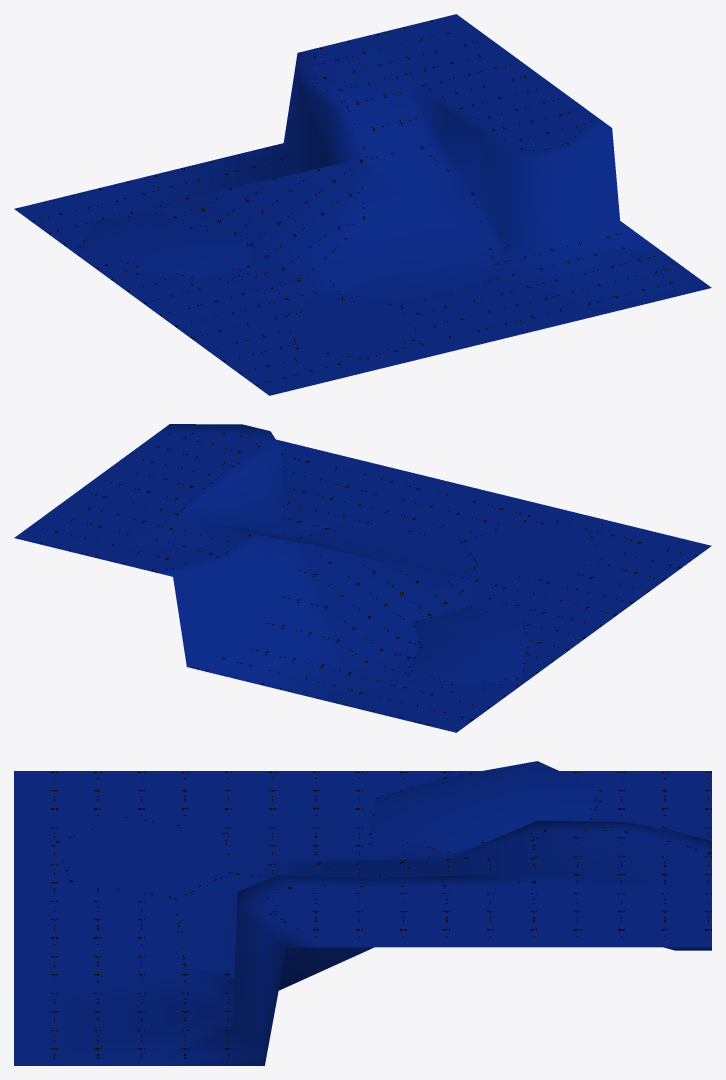
The model's file is GRD_S_C7_S_2.fbx.
The picture shows the model from 3 angles, top to bottom: view 1: azimuth 30°, elevation 25°; view 2: azimuth 150°, elevation 25°; view 3: azimuth 270°, elevation 25°; orthographic projection. The views are drawn at different scales.
Parts seen in each view (by area): view 1: material_00022000, material_C0042000, material_00032000, material_C0012000, material_C0052000; view 2: material_00022000, material_00032000, material_C0042000, material_C0012000, material_C0052000; view 3: material_00022000, material_C0042000, material_00032000, material_C0012000, material_C0052000.
Boxes of the visible parts, box(x1,y1,x2,y2) form: material_00022000: box(14, 14, 711, 395); material_C0042000: box(284, 145, 499, 358); material_00032000: box(283, 48, 619, 249); material_C0012000: box(78, 212, 250, 278); material_C0052000: box(78, 250, 250, 285); material_00022000: box(14, 433, 711, 732); material_00032000: box(152, 424, 303, 666); material_C0042000: box(242, 520, 602, 580); material_C0012000: box(407, 606, 529, 685); material_C0052000: box(407, 628, 529, 692); material_00022000: box(14, 771, 711, 1065); material_C0042000: box(54, 816, 450, 975); material_00032000: box(233, 820, 711, 1065); material_C0012000: box(369, 761, 601, 853); material_C0052000: box(369, 798, 601, 858).
Bounding box in the file's own units: 12800 × 2400 × 12800.
